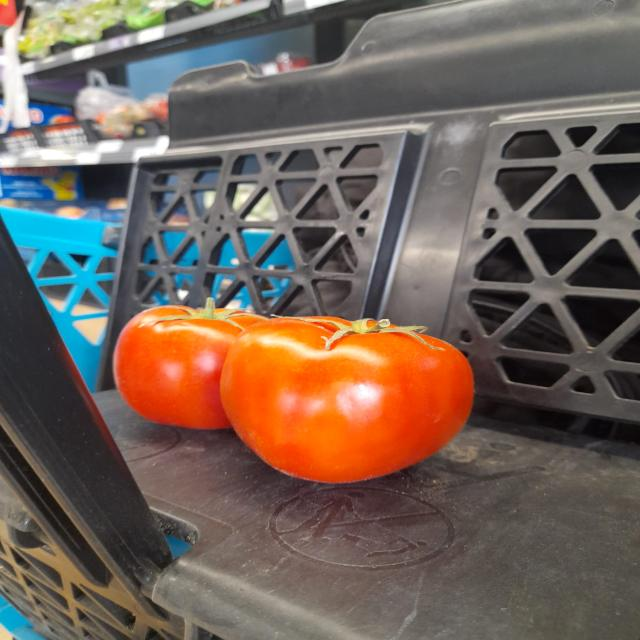tomato: (214, 306, 483, 490), (109, 293, 286, 431)
